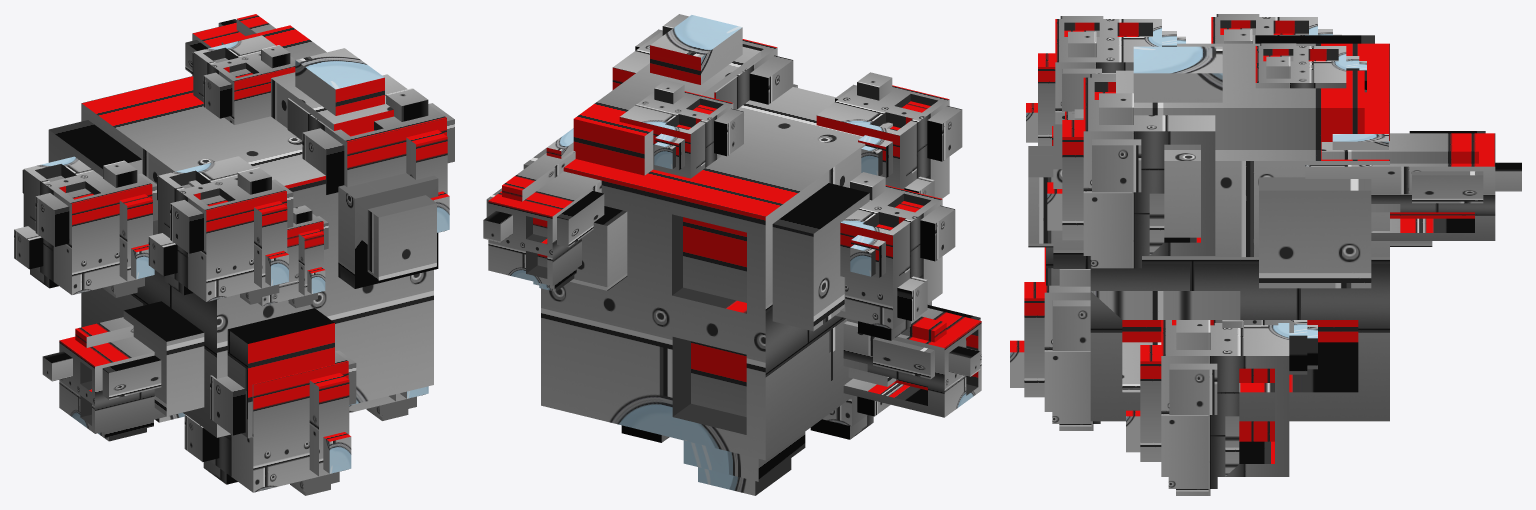
The model's file is spacejunkning03.fbx.
3 renders of one model, left to right at view 1: azimuth 30°, elevation 25°; view 2: azimuth 150°, elevation 25°; view 3: azimuth 270°, elevation 25°, orthographic. The views are drawn at different scales.
Visible parts, largest first — view 1: polySurface3; view 2: polySurface3; view 3: polySurface3.
Part boxes in pixels (x1,y1,x2,y2): polySurface3: [14, 14, 454, 495]; polySurface3: [483, 14, 981, 495]; polySurface3: [1010, 14, 1521, 495].
Bounding box in the file's own units: 66.5 × 62.74 × 71.89.
